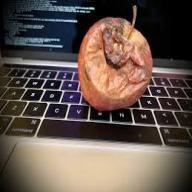apple: (76, 18, 153, 109)
